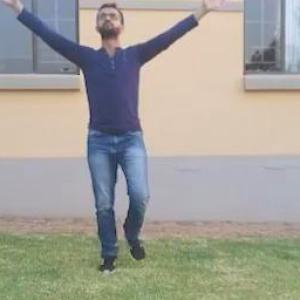takeoff: (0, 0, 243, 281)
